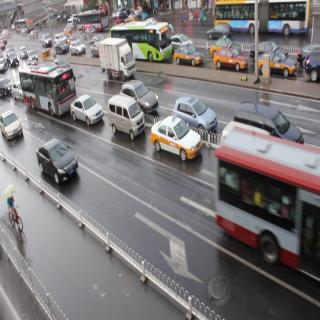BigCar: (218, 129, 320, 276), (17, 58, 77, 125), (210, 0, 315, 31), (110, 21, 173, 62), (73, 7, 109, 33)
Car: (234, 92, 306, 147), (34, 131, 82, 191), (150, 112, 202, 167), (170, 89, 219, 138), (105, 90, 145, 148), (98, 38, 136, 84), (121, 74, 160, 118), (257, 45, 295, 80), (70, 90, 103, 130), (211, 44, 251, 74), (0, 110, 25, 144), (175, 42, 203, 68), (207, 17, 231, 45), (0, 74, 13, 101), (69, 40, 87, 59), (55, 39, 70, 58), (6, 50, 20, 70), (41, 32, 53, 49), (26, 48, 39, 62), (18, 43, 28, 60)
